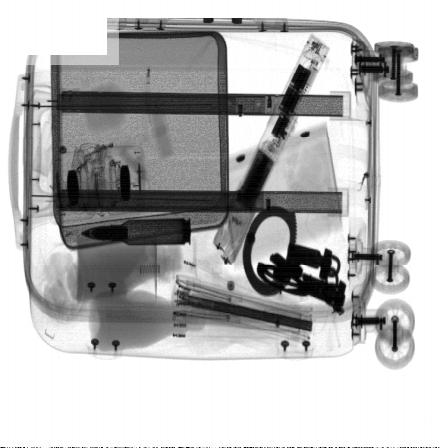Baton: (211, 34, 331, 268)
Bullet: (81, 218, 191, 247)
Gun: (268, 252, 303, 283)
HandCuffs: (241, 203, 347, 314)
